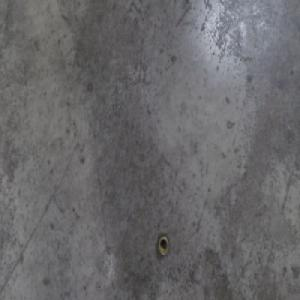Nut: (156, 231, 168, 257)
